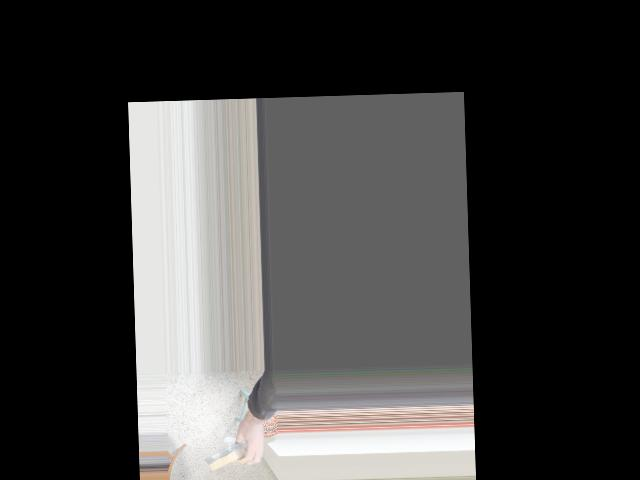cheese: (201, 430, 269, 480)
